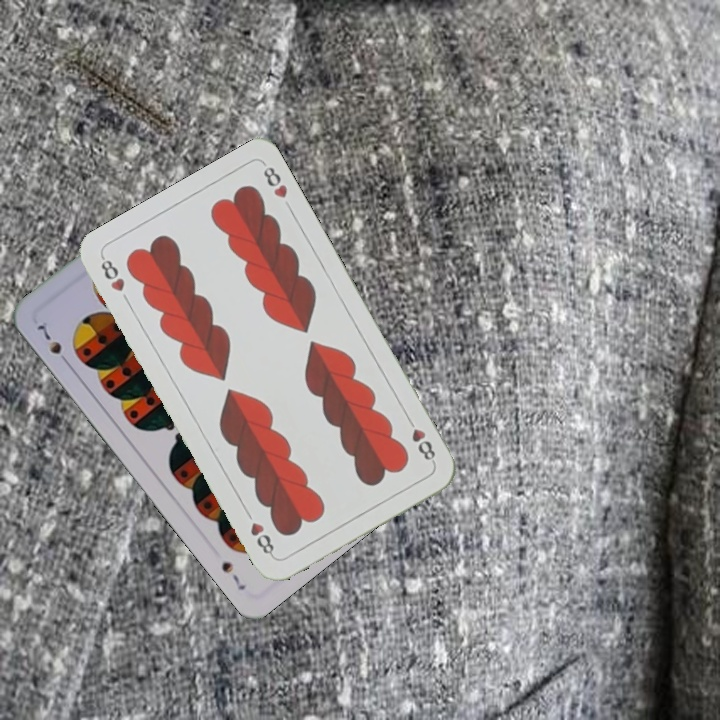H8: (402, 413, 438, 467), (96, 253, 128, 295)
S7: (32, 320, 73, 369)
